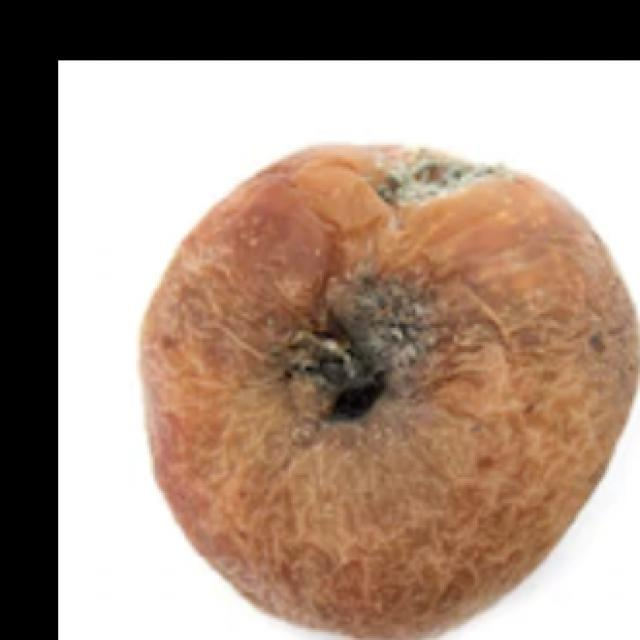Rotten: (128, 142, 640, 640)
